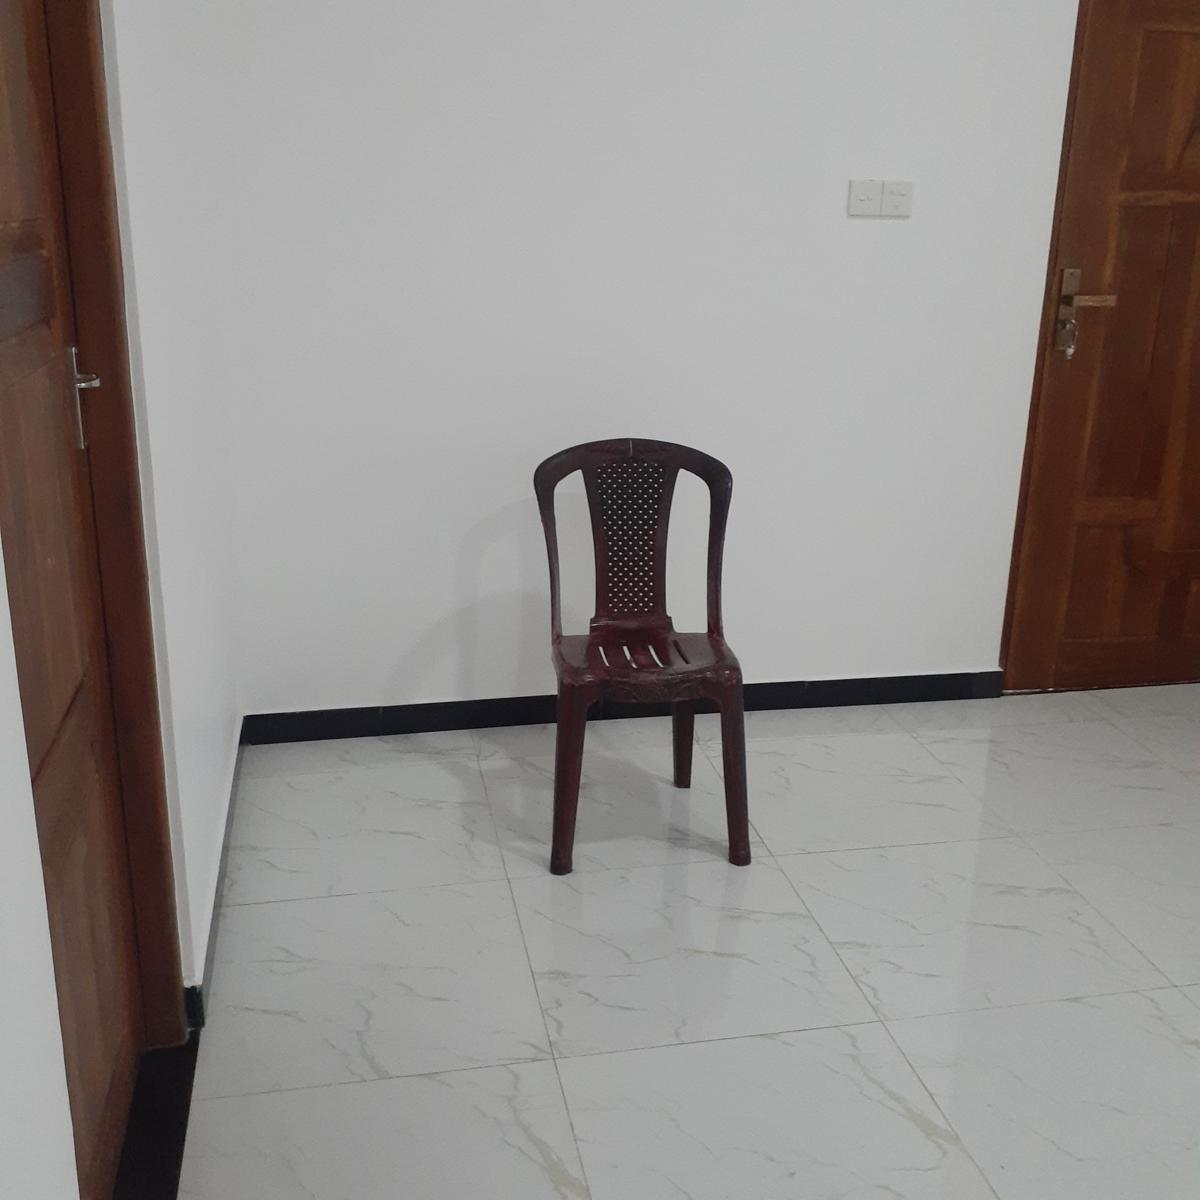Chair: (534, 433, 756, 878)
